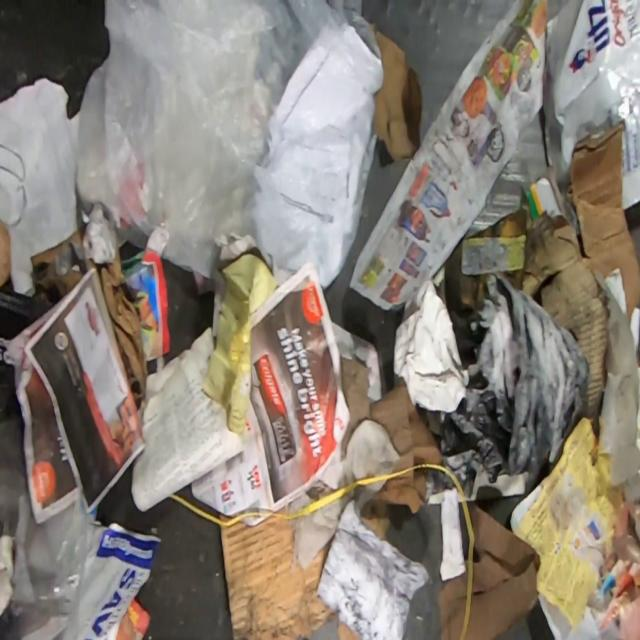cardboard: (444, 125, 640, 438), (220, 506, 336, 639), (436, 503, 540, 638), (358, 499, 391, 540)
soft_plastic: (77, 1, 389, 291), (0, 414, 104, 640), (545, 0, 640, 208)
